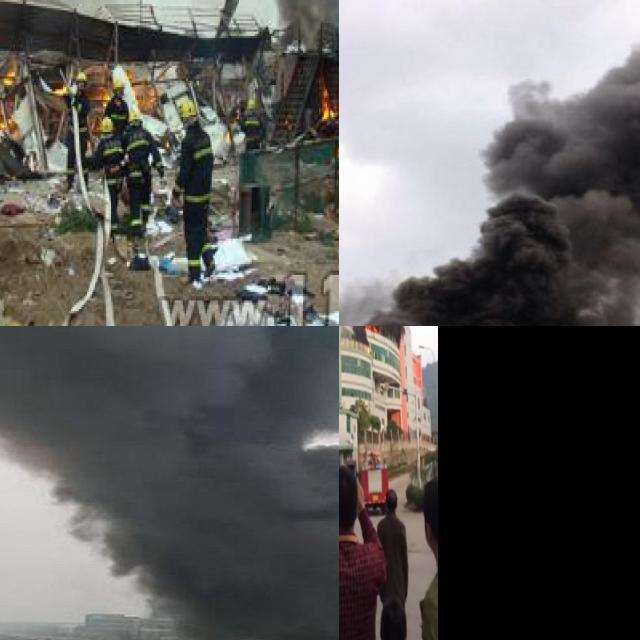fire: (0, 63, 16, 127), (316, 79, 336, 121), (0, 62, 16, 85), (96, 83, 110, 102)
smoke: (0, 326, 339, 640), (355, 0, 640, 326)
